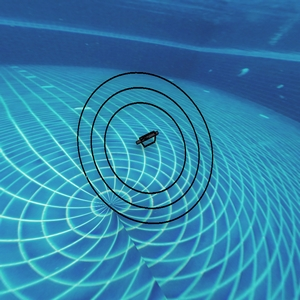circle: (72, 66, 225, 233)
submarine: (140, 133, 159, 150)
